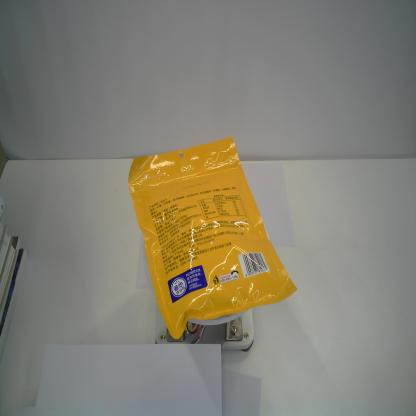Dried Fruit: (128, 135, 298, 340)
